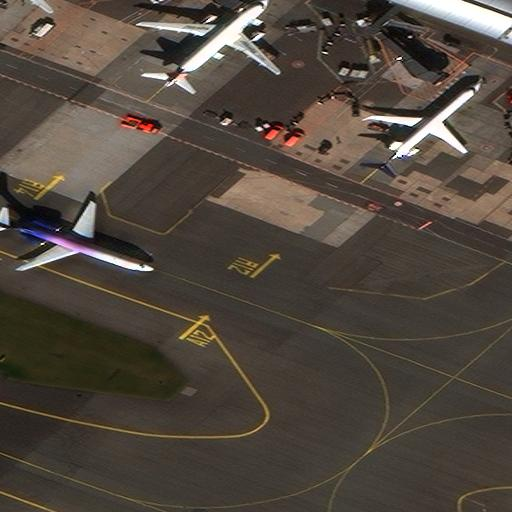Medium Civil Transport: (141, 0, 281, 86), (0, 204, 157, 271), (373, 81, 480, 169)
